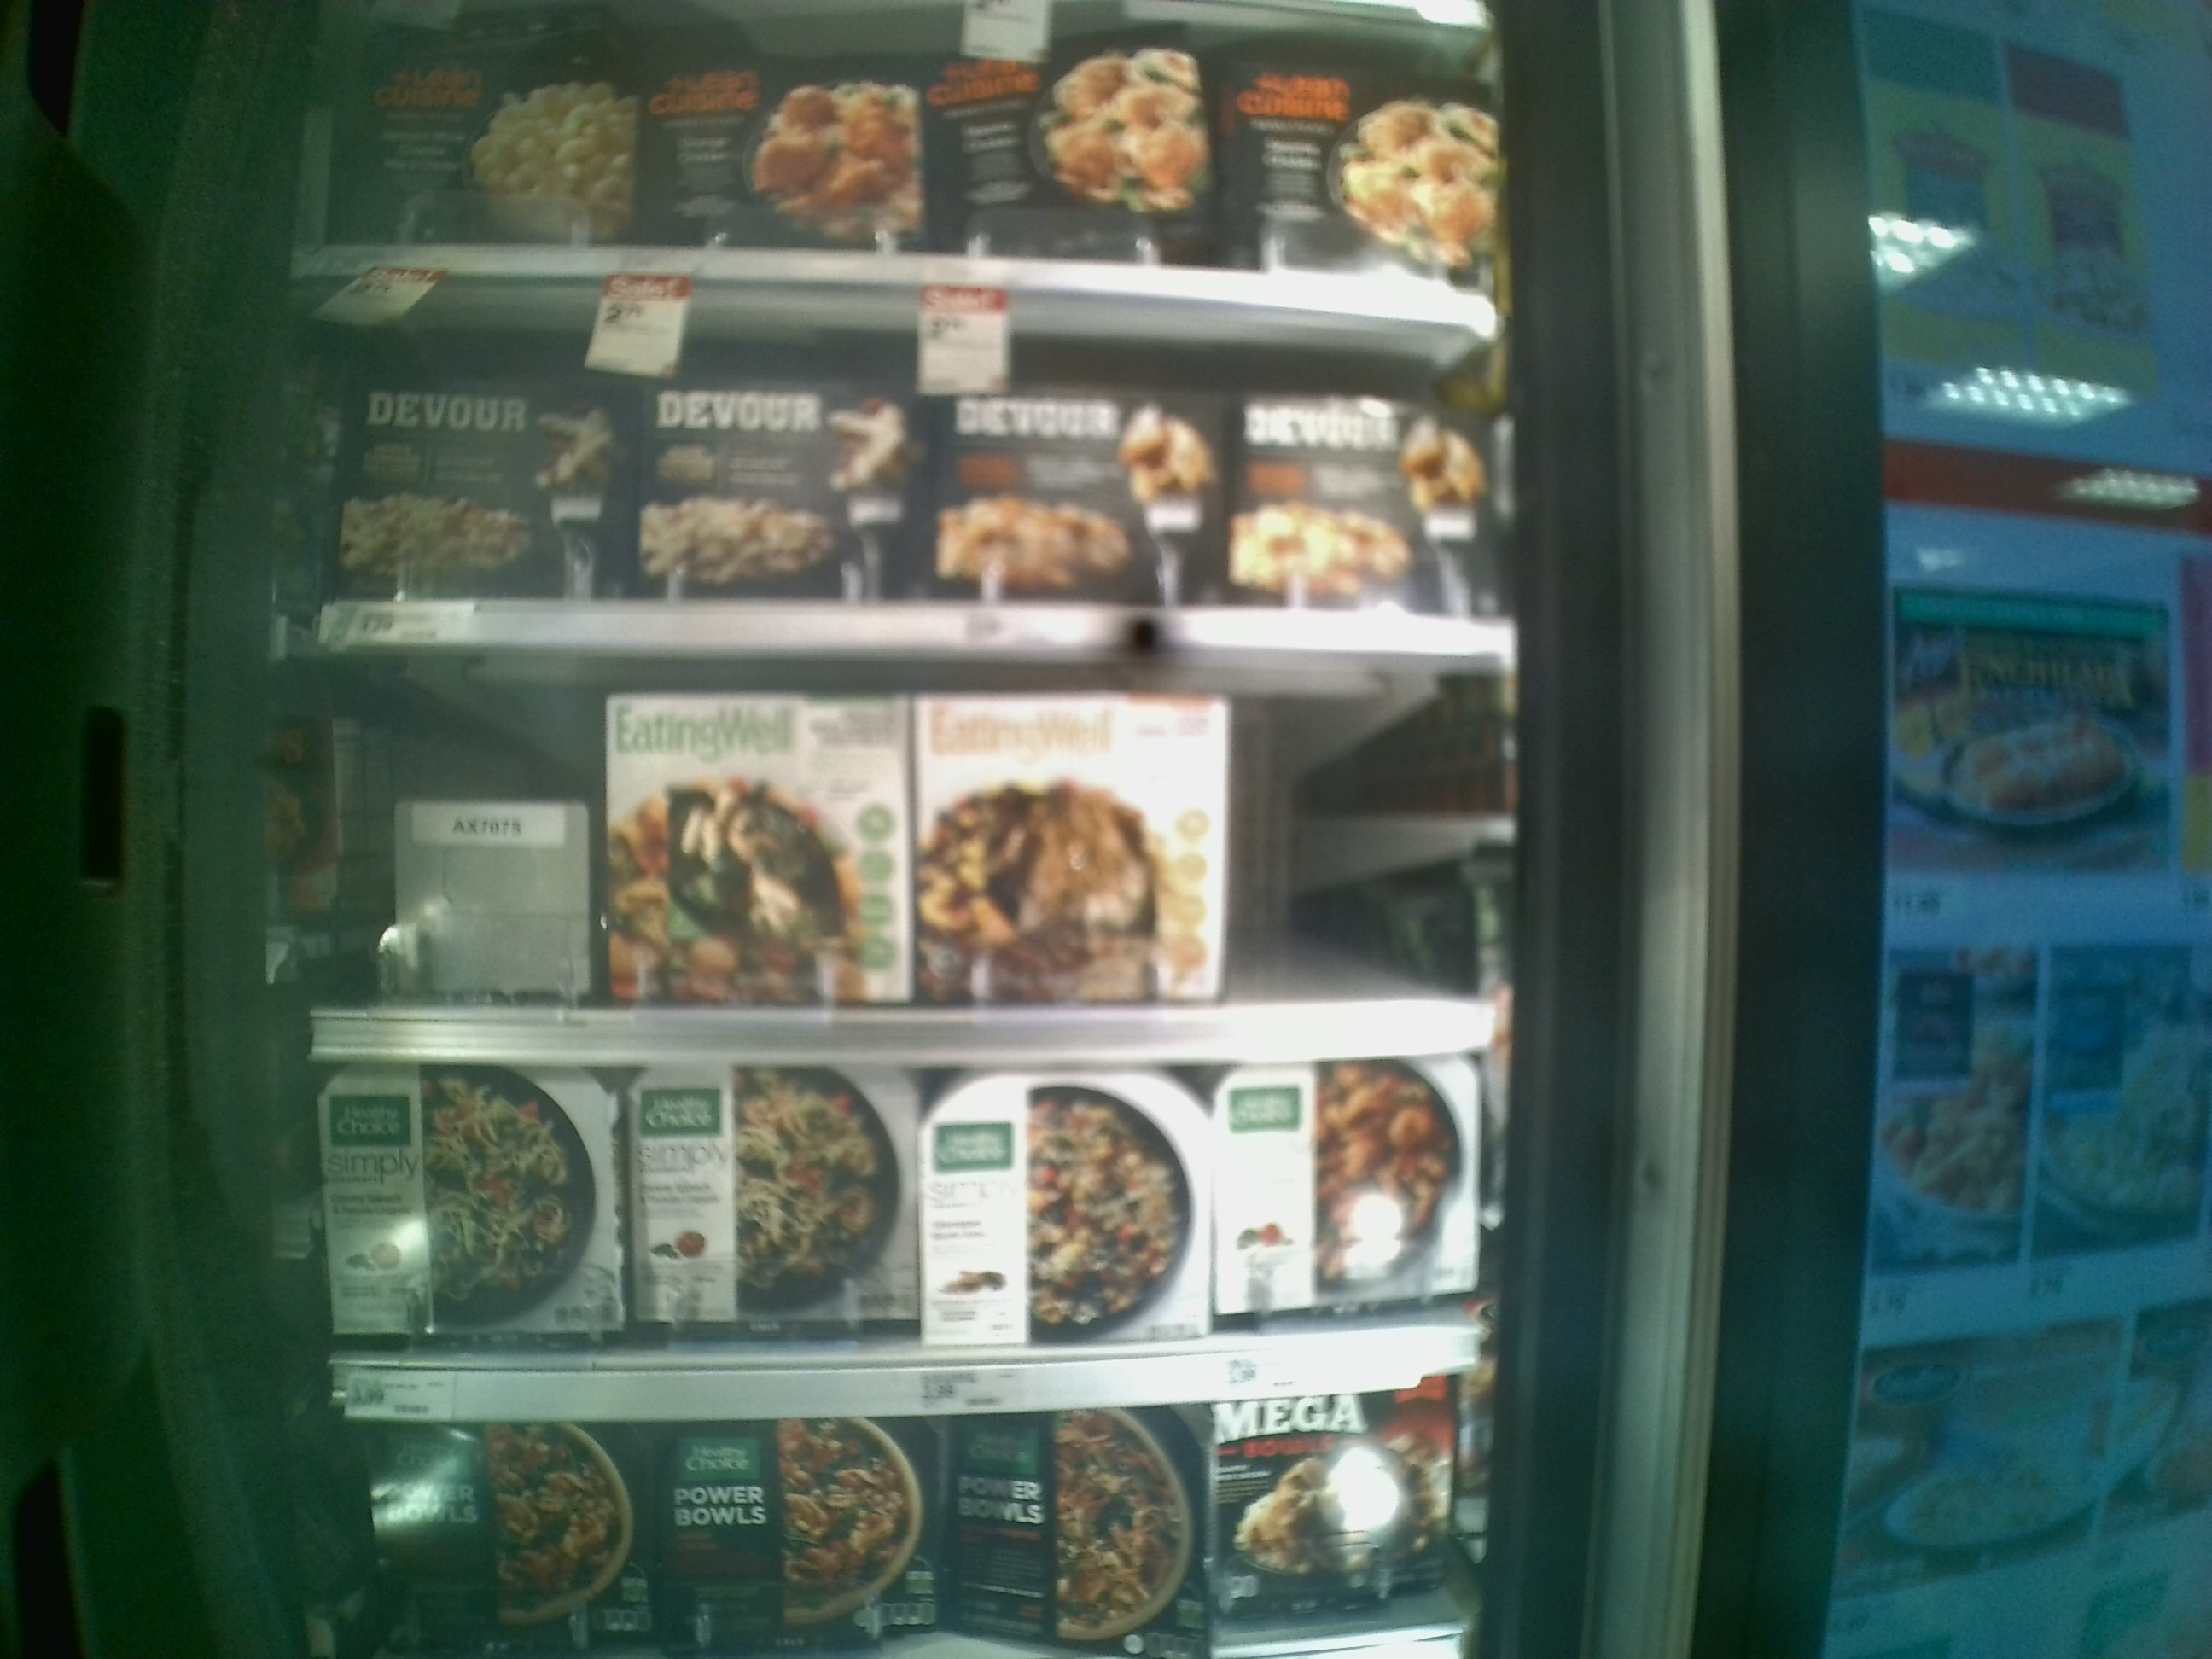shelf: (273, 636, 1521, 1060), (273, 275, 1519, 652), (280, 1058, 1514, 1419)
